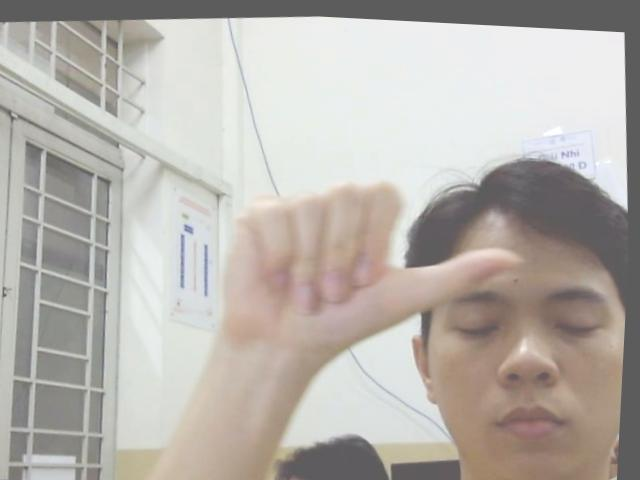A: (212, 157, 530, 346)
